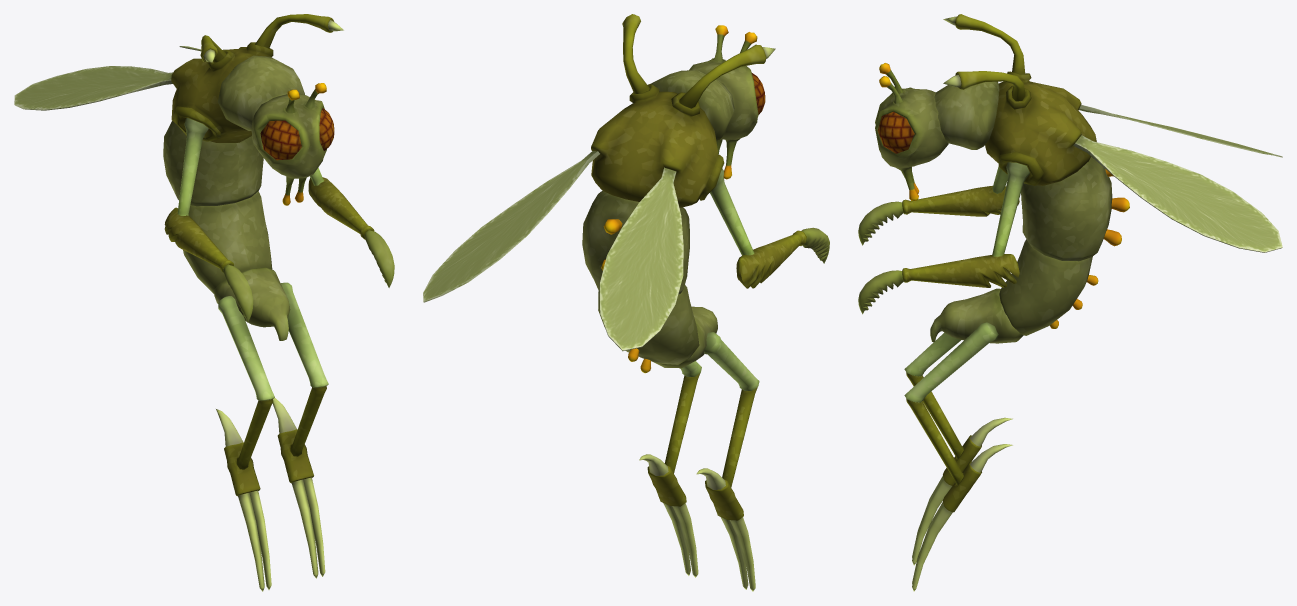
The model's file is Alien_2.fbx.
The picture shows the model from 3 angles, left to right: view 1: azimuth 30°, elevation 25°; view 2: azimuth 150°, elevation 25°; view 3: azimuth 270°, elevation 25°; orthographic projection. The views are drawn at different scales.
Visible parts, largest first — view 1: head, Spine_2, Spine_3, Spine_1, wing_R, neck, leg_R, leg_L, tail, hip_R, elbow_R, hip_L (+7 smaller); view 2: Spine_1, wing_R, wing_L, head, Spine_2, Spine_3, leg_R, leg_L, neck, elbow_R, sting_R, hip_R (+6 smaller); view 3: wing_L, Spine_1, Spine_2, Spine_3, head, neck, tail, elbow_L, elbow_R, leg_L, hip_L, leg_R (+9 smaller).
Part boxes in pixels (<box>): head: <box>251,83,334,205</box>; Spine_2: <box>163,121,263,206</box>; Spine_3: <box>183,191,272,293</box>; Spine_1: <box>171,42,273,142</box>; wing_R: <box>14,66,172,110</box>; neck: <box>217,55,304,130</box>; leg_R: <box>216,409,271,591</box>; leg_L: <box>272,398,325,578</box>; tail: <box>214,267,290,340</box>; hip_R: <box>218,296,274,400</box>; elbow_R: <box>164,207,233,272</box>; hip_L: <box>281,282,328,387</box>; Spine_1: <box>591,83,724,207</box>; wing_R: <box>599,167,683,351</box>; wing_L: <box>423,151,599,302</box>; head: <box>689,25,765,179</box>; Spine_2: <box>582,191,689,294</box>; Spine_3: <box>598,285,699,373</box>; leg_R: <box>696,468,755,591</box>; leg_L: <box>639,454,698,577</box>; neck: <box>651,70,734,140</box>; elbow_R: <box>736,230,806,288</box>; sting_R: <box>679,44,775,108</box>; hip_R: <box>704,332,759,390</box>; wing_L: <box>1073,135,1282,252</box>; Spine_1: <box>985,71,1096,185</box>; Spine_2: <box>1021,157,1129,261</box>; Spine_3: <box>999,239,1098,335</box>; head: <box>875,63,948,200</box>; neck: <box>934,81,999,149</box>; tail: <box>930,288,1023,343</box>; elbow_L: <box>902,254,1019,287</box>; elbow_R: <box>902,185,1019,216</box>; leg_L: <box>912,444,1012,591</box>; hip_L: <box>904,322,998,402</box>; leg_R: <box>912,417,1012,565</box>.
Size of the model in its own units: 8.99 by 21.62 by 15.55.
